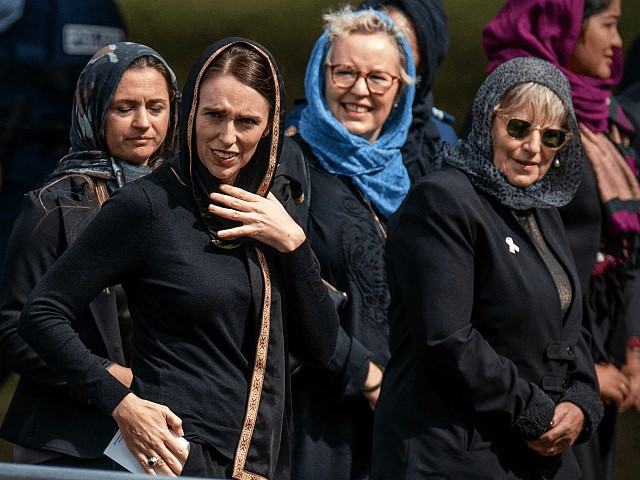face_no_mask: (189, 54, 272, 185), (485, 72, 571, 195), (317, 19, 401, 143), (92, 50, 170, 170)
